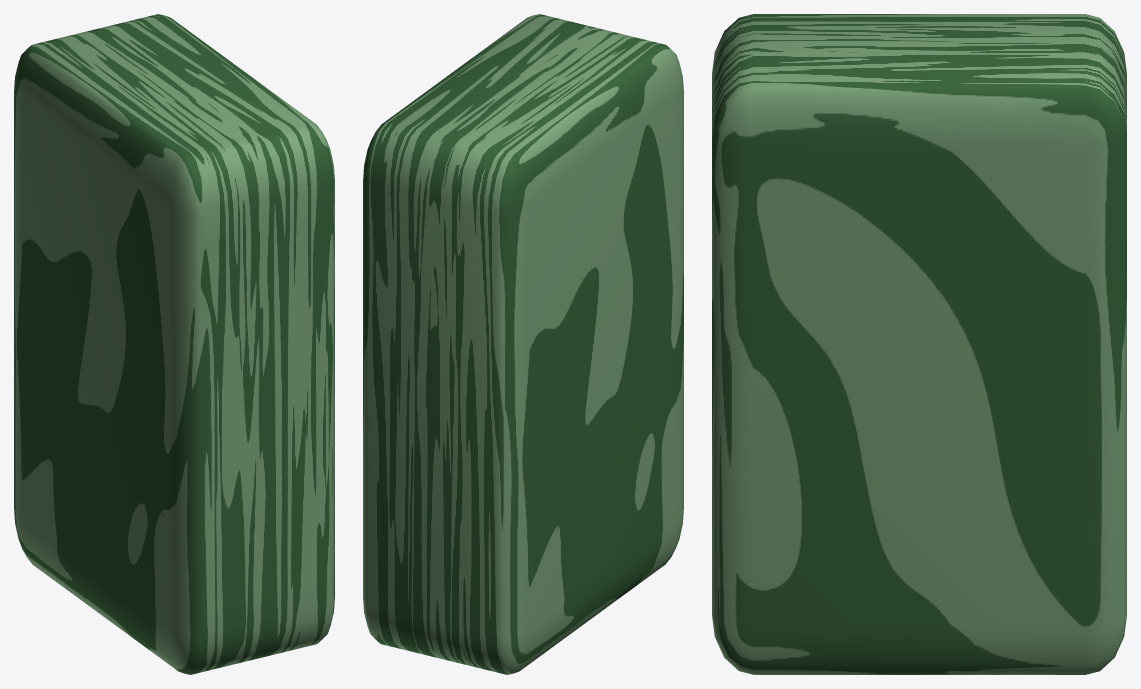
Rendered from yoga-block-camo-green.glb.
3 renders of one model, left to right at view 1: azimuth 30°, elevation 25°; view 2: azimuth 150°, elevation 25°; view 3: azimuth 270°, elevation 25°, orthographic. The views are drawn at different scales.
Visible parts, largest first — view 1: Green-camo-yoga-block; view 2: Green-camo-yoga-block; view 3: Green-camo-yoga-block.
Boxes of the visible parts, <box> form: Green-camo-yoga-block: <box>14,14,334,674</box>; Green-camo-yoga-block: <box>363,14,683,674</box>; Green-camo-yoga-block: <box>712,14,1126,674</box>.
Size of the model in its own units: 0.07 by 0.22 by 0.14.
Materials: 1 (1 with a texture image).
